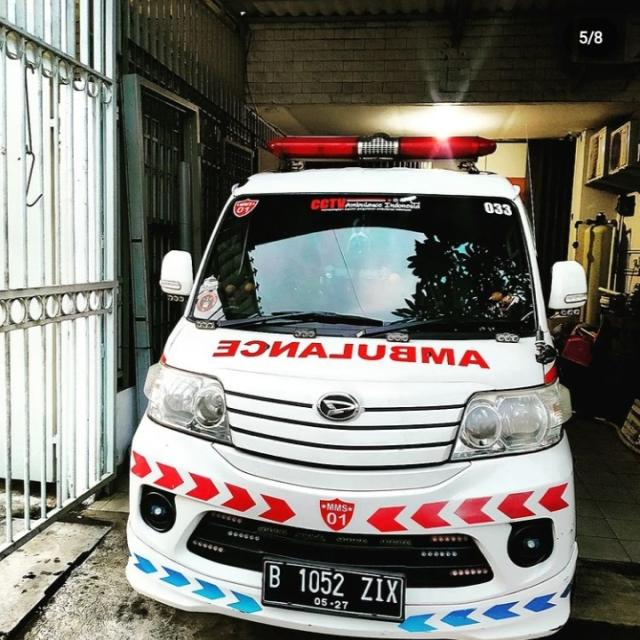emergency-vehicle: (125, 136, 586, 639)
